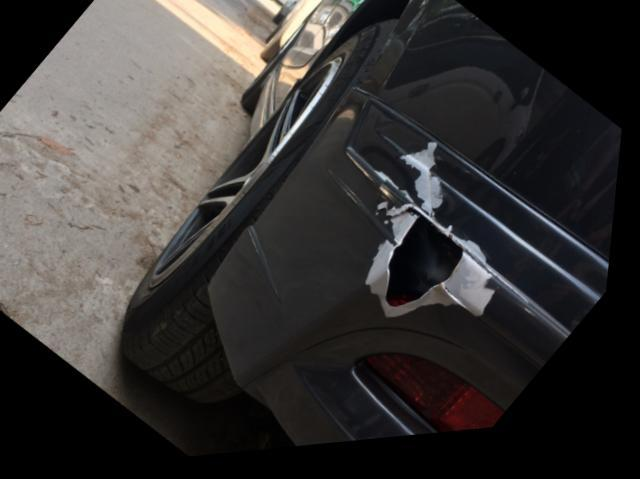crack: (383, 215, 471, 318)
